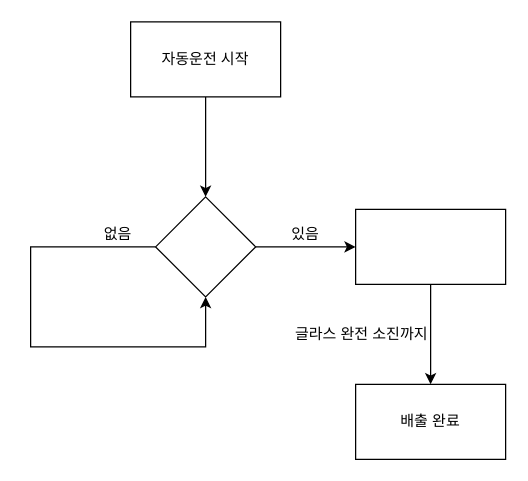
This 528x481 diagram has some shape labels left out. The shapes that lost their labels are listed below. From the top down, each one's centre as x and y in pixels, then its label:
At (x=205, y=246): "글라스 유무 확인".
At (x=430, y=246): "배출 대기 (Unloader에 신호 전달)".
